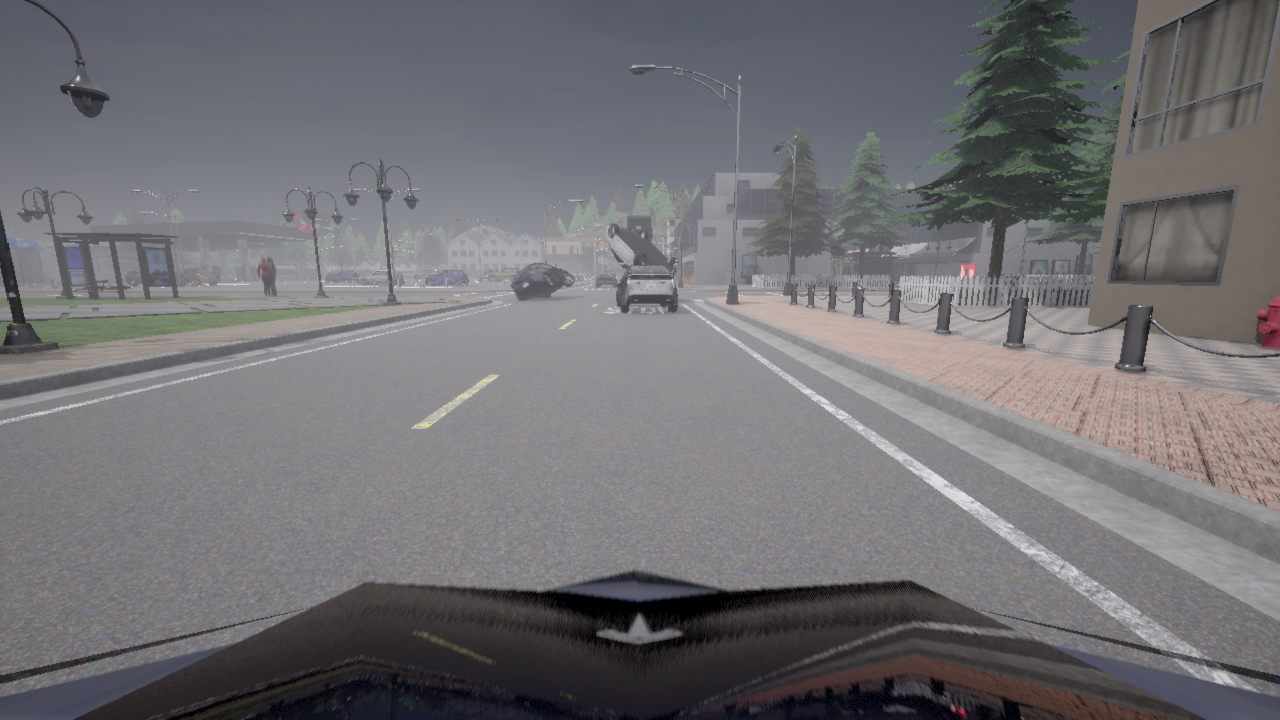cyclist: (0, 569, 1279, 719), (605, 223, 677, 274), (615, 264, 677, 312), (510, 263, 574, 300), (125, 270, 188, 285), (625, 215, 652, 241), (425, 269, 468, 285), (175, 269, 220, 284), (358, 270, 404, 284), (485, 268, 517, 281), (325, 270, 358, 282), (595, 273, 617, 286), (412, 269, 439, 279), (508, 267, 518, 271), (603, 271, 613, 272), (399, 272, 401, 273)
